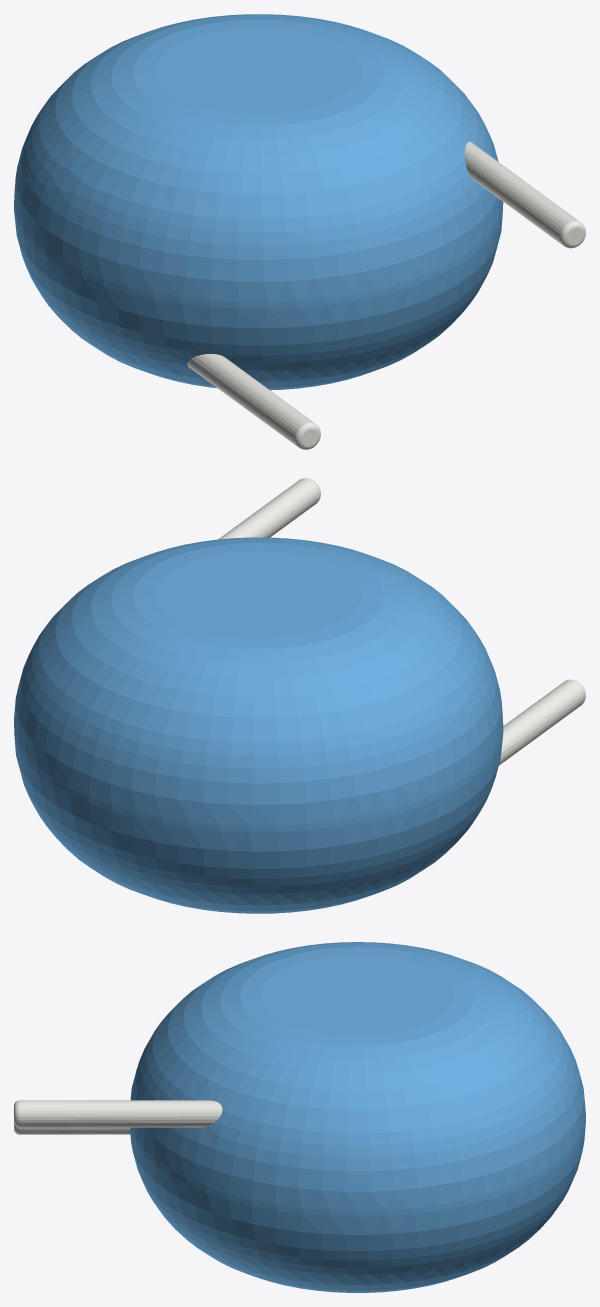
Rendered from RV_Disc_D12mm_W7.1mm_P7.5mm.glb.
The picture shows the model from 3 angles, top to bottom: view 1: azimuth 30°, elevation 25°; view 2: azimuth 150°, elevation 25°; view 3: azimuth 270°, elevation 25°; orthographic projection. The views are drawn at different scales.
Visible parts, largest first — view 1: Shape_IndexedFaceSet.001, Shape_IndexedFaceSet.002, Shape_IndexedFaceSet.003, Shape_IndexedFaceSet.006, Shape_IndexedFaceSet.004, Shape_IndexedFaceSet; view 2: Shape_IndexedFaceSet.001, Shape_IndexedFaceSet.002, Shape_IndexedFaceSet.003, Shape_IndexedFaceSet, Shape_IndexedFaceSet.006, Shape_IndexedFaceSet.004; view 3: Shape_IndexedFaceSet.001, Shape_IndexedFaceSet.002, Shape_IndexedFaceSet.003, Shape_IndexedFaceSet.004, Shape_IndexedFaceSet, Shape_IndexedFaceSet.006.
Part boxes in pixels (box(x1,y1,x2,y2)): Shape_IndexedFaceSet.001: box(14, 14, 502, 302); Shape_IndexedFaceSet.002: box(14, 210, 502, 390); Shape_IndexedFaceSet.003: box(155, 27, 361, 114); Shape_IndexedFaceSet.006: box(187, 354, 313, 446); Shape_IndexedFaceSet.004: box(465, 141, 578, 244); Shape_IndexedFaceSet: box(14, 202, 503, 308); Shape_IndexedFaceSet.001: box(14, 537, 503, 825); Shape_IndexedFaceSet.002: box(14, 735, 502, 913); Shape_IndexedFaceSet.003: box(155, 550, 361, 637); Shape_IndexedFaceSet: box(14, 722, 503, 832); Shape_IndexedFaceSet.006: box(499, 680, 584, 765); Shape_IndexedFaceSet.004: box(218, 478, 319, 539); Shape_IndexedFaceSet.001: box(130, 942, 585, 1210); Shape_IndexedFaceSet.002: box(130, 1122, 585, 1292); Shape_IndexedFaceSet.003: box(261, 954, 453, 1035); Shape_IndexedFaceSet.004: box(19, 1100, 222, 1127); Shape_IndexedFaceSet: box(130, 1116, 585, 1216); Shape_IndexedFaceSet.006: box(19, 1127, 130, 1134).
Bounding box in the file's own units: 4.72 × 2.8 × 5.92.
